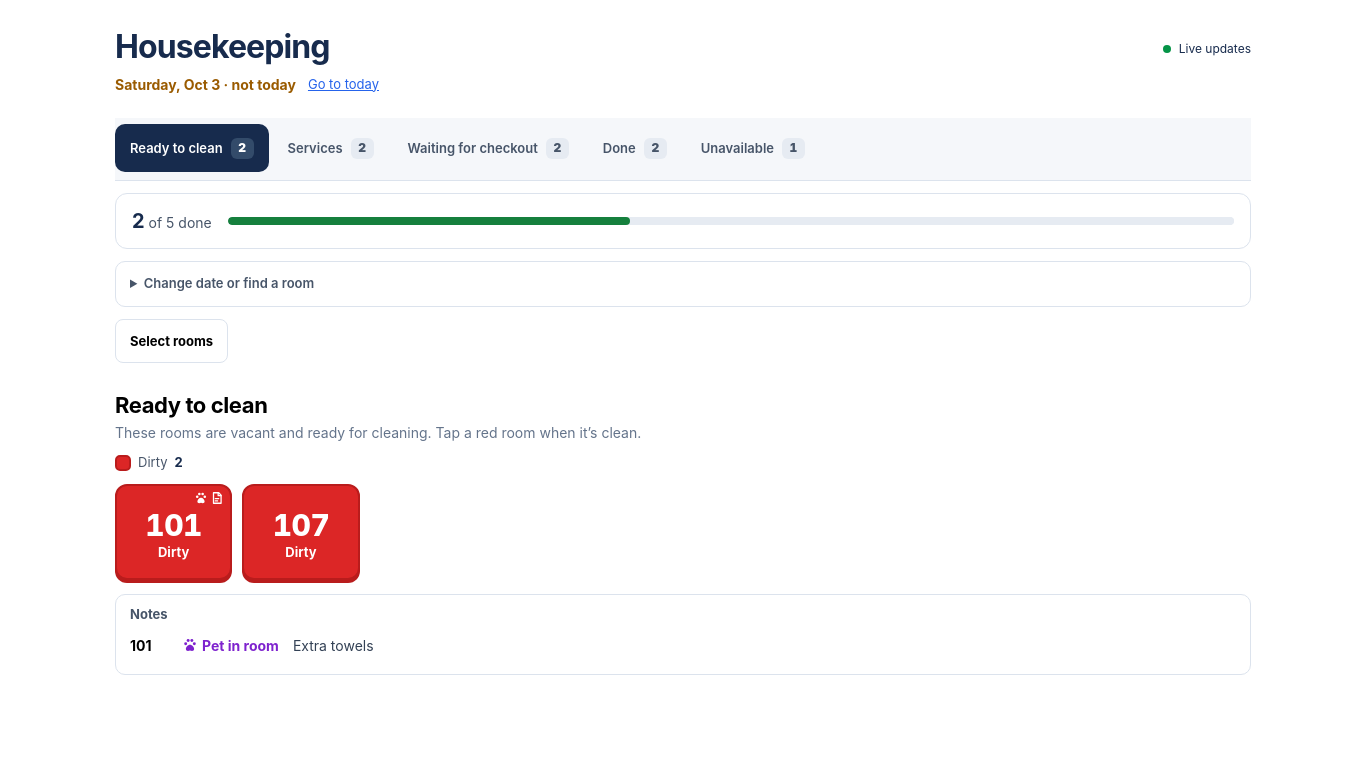
stayover completion stays in Services, records only service, and supports Undo
Check: the list item with aria-label "Room 101, Dirty" is shown, box 115,484 -> 232,580
Click the tab "Services 2".
click(331, 148)  # box 273,124 -> 389,172
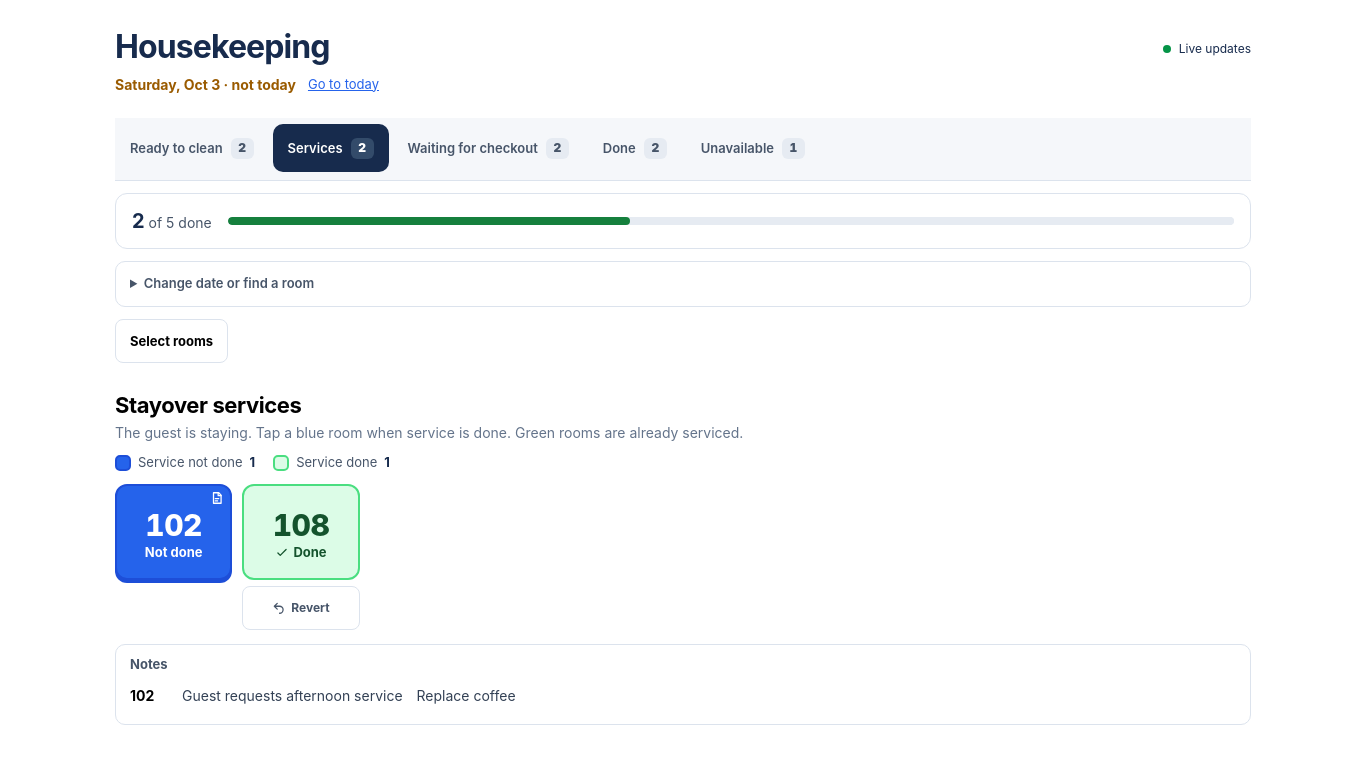
Click the button with aria-label "Mark room 102 service done".
click(174, 532)  # box 115,484 -> 232,580
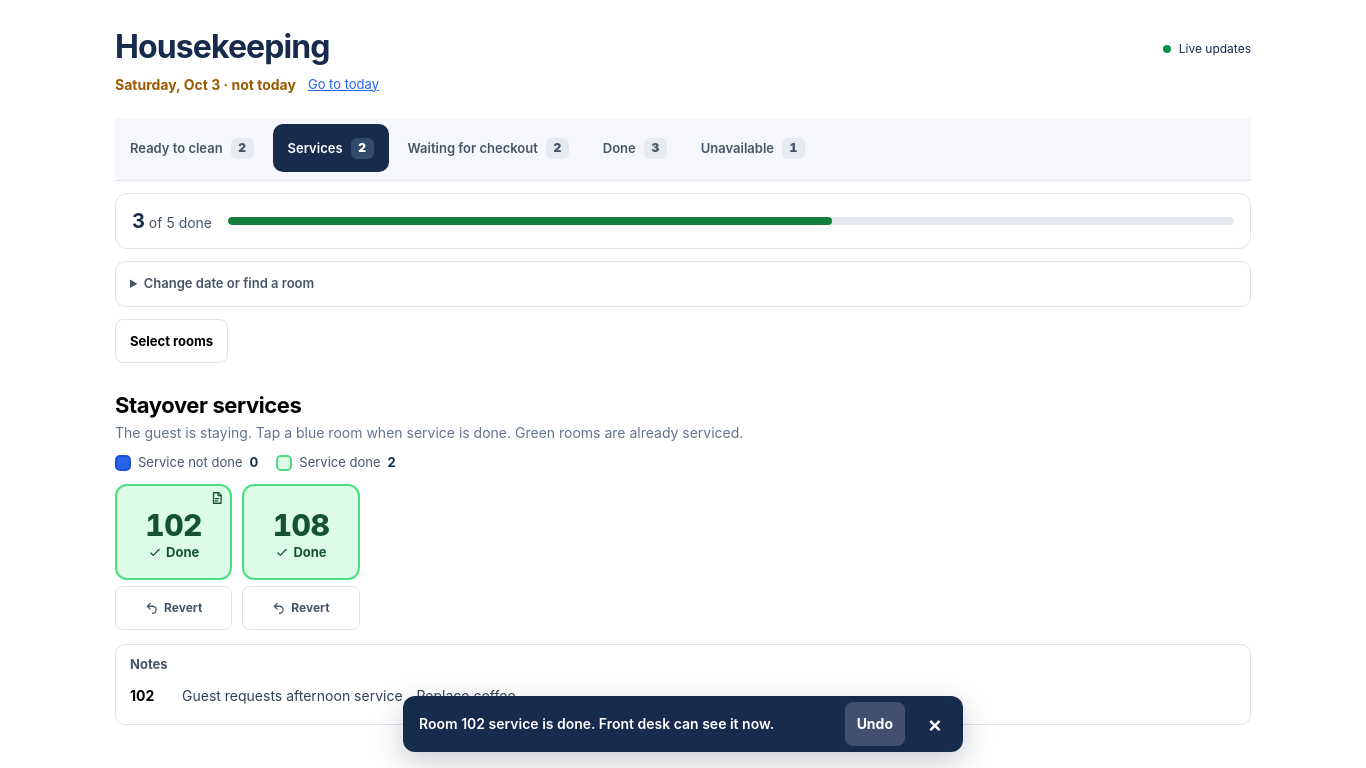
Check: the button with aria-label "Revert room 102 service" is enabled, box 115,586 -> 232,630
Check: the text "Room 102 service is done. Front desk can see it now." is shown, box 419,714 -> 837,734
Click the button with aria-label "Undo room 102".
click(875, 724)  # box 845,702 -> 905,746
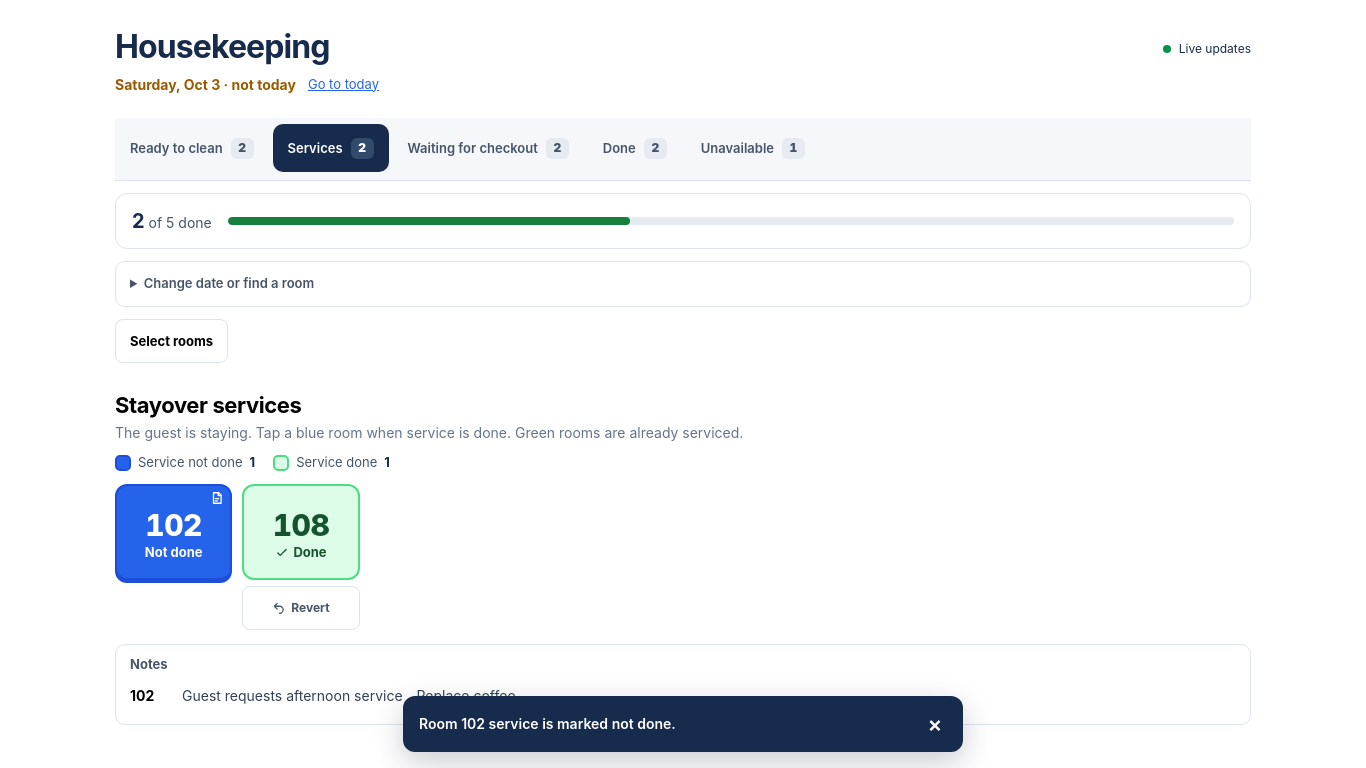
Check: the text "Room 102 service is marked not done." is shown, box 419,715 -> 676,732
Check: the button with aria-label "Mark room 102 service done" is enabled, box 115,484 -> 232,580
